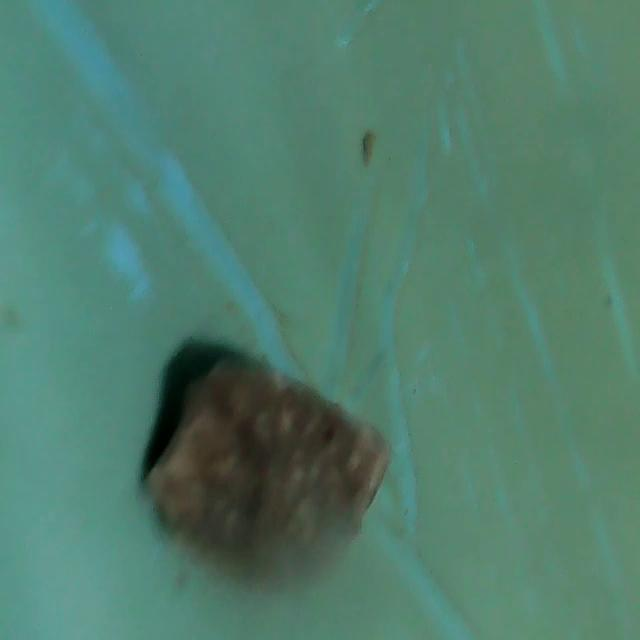rock: (130, 324, 402, 614)
